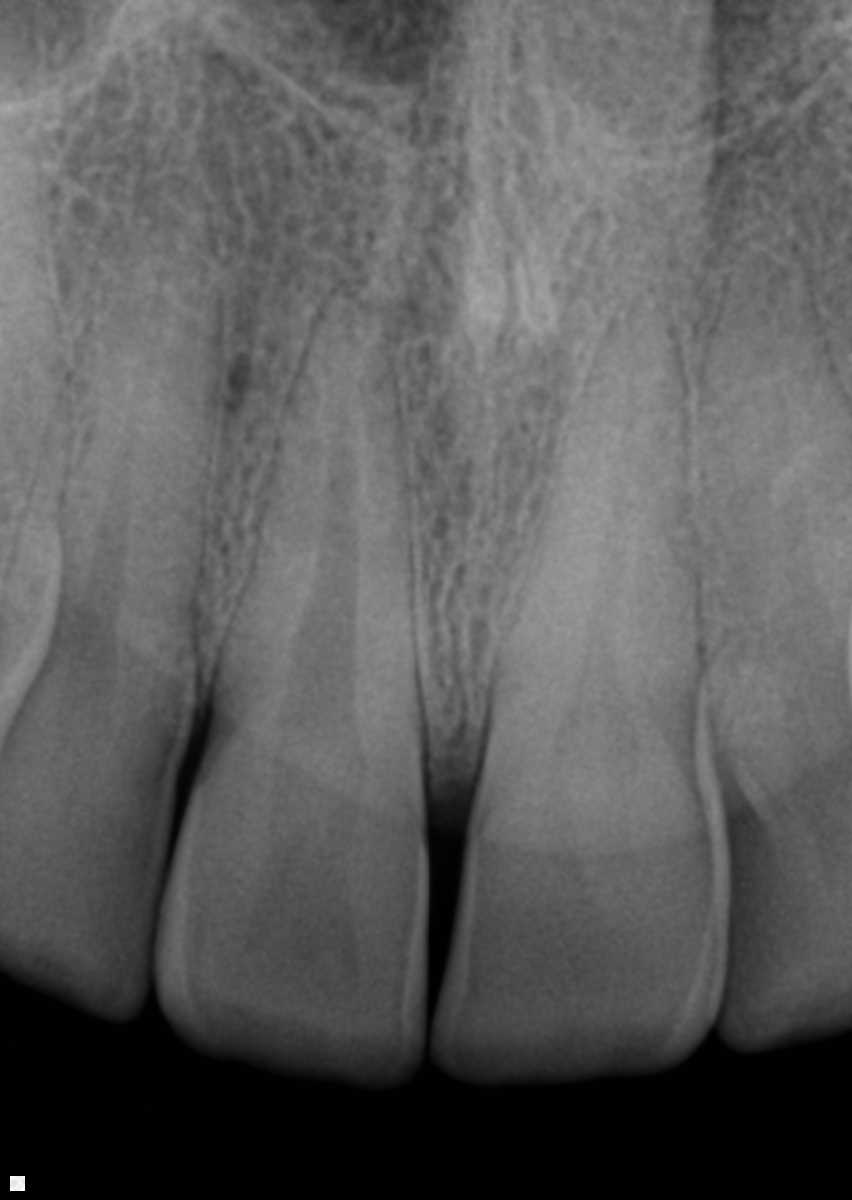Main Canal: (53, 220, 178, 652), (272, 286, 376, 786), (544, 313, 656, 775), (770, 345, 852, 727)
Main Root: (476, 291, 722, 820), (197, 280, 433, 804), (0, 171, 231, 682), (702, 234, 852, 741)
